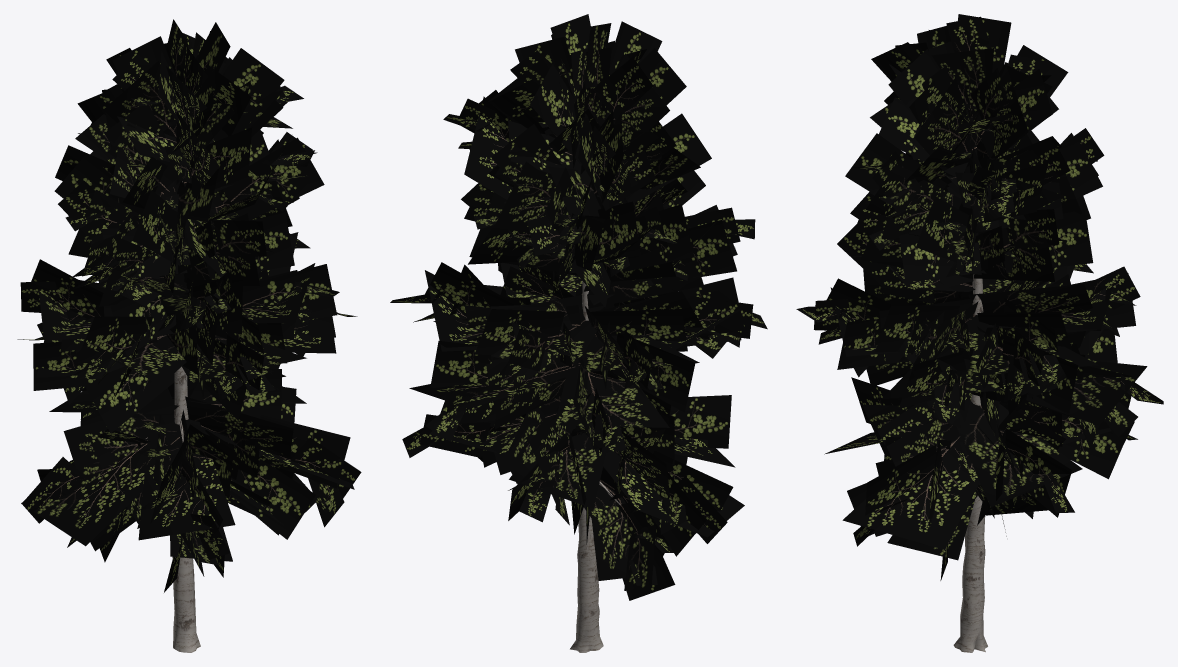
Rendered from forest_Tree2.fbx.
3 renders of one model, left to right at view 1: azimuth 30°, elevation 25°; view 2: azimuth 150°, elevation 25°; view 3: azimuth 270°, elevation 25°, orthographic.
Parts seen in each view (by area): view 1: StaticMeshActor_UAID_D85ED3559E7B4BDD01_1858927735_StaticMe; view 2: StaticMeshActor_UAID_D85ED3559E7B4BDD01_1858927735_StaticMe; view 3: StaticMeshActor_UAID_D85ED3559E7B4BDD01_1858927735_StaticMe.
Part boxes in pixels (box(x1,y1,x2,y2)): StaticMeshActor_UAID_D85ED3559E7B4BDD01_1858927735_StaticMe: box(17, 19, 361, 652); StaticMeshActor_UAID_D85ED3559E7B4BDD01_1858927735_StaticMe: box(390, 14, 767, 652); StaticMeshActor_UAID_D85ED3559E7B4BDD01_1858927735_StaticMe: box(796, 14, 1163, 652).
Size of the model in its own units: 20.51 by 39.26 by 20.88.
